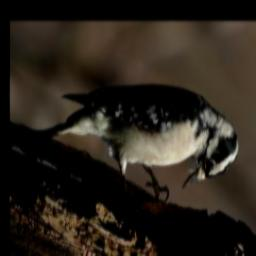Woodpecker: (32, 84, 238, 203)
